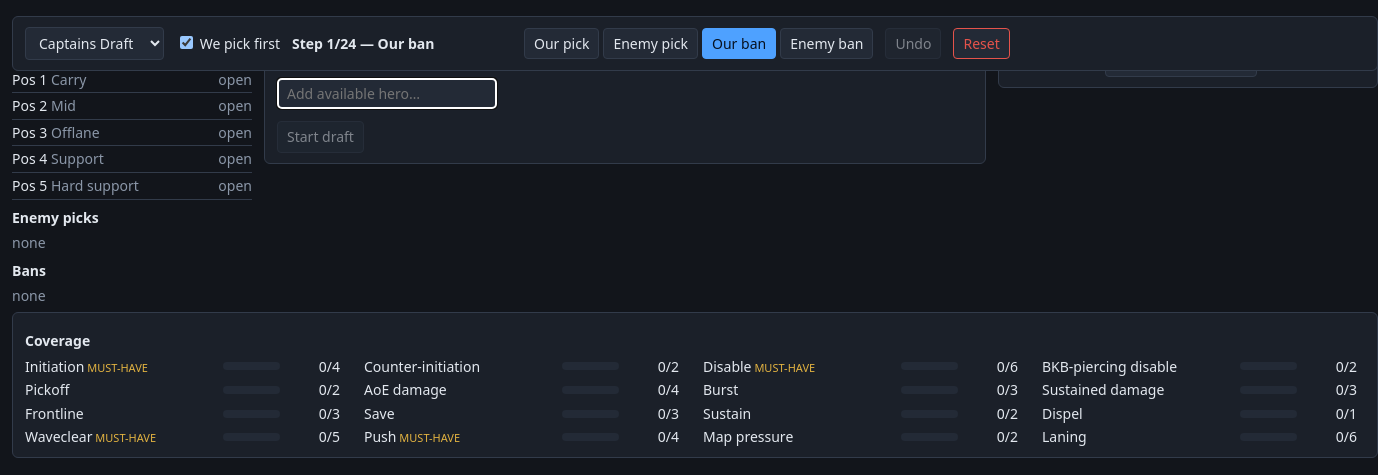
DraftScreen › Start draft is disabled while the available list is empty
Expected: the button "Start draft" is disabled, [277, 121, 364, 153]
In the dropdown labelled "Add available hero…": [387, 93] box [277, 78, 497, 109], type "Axe"
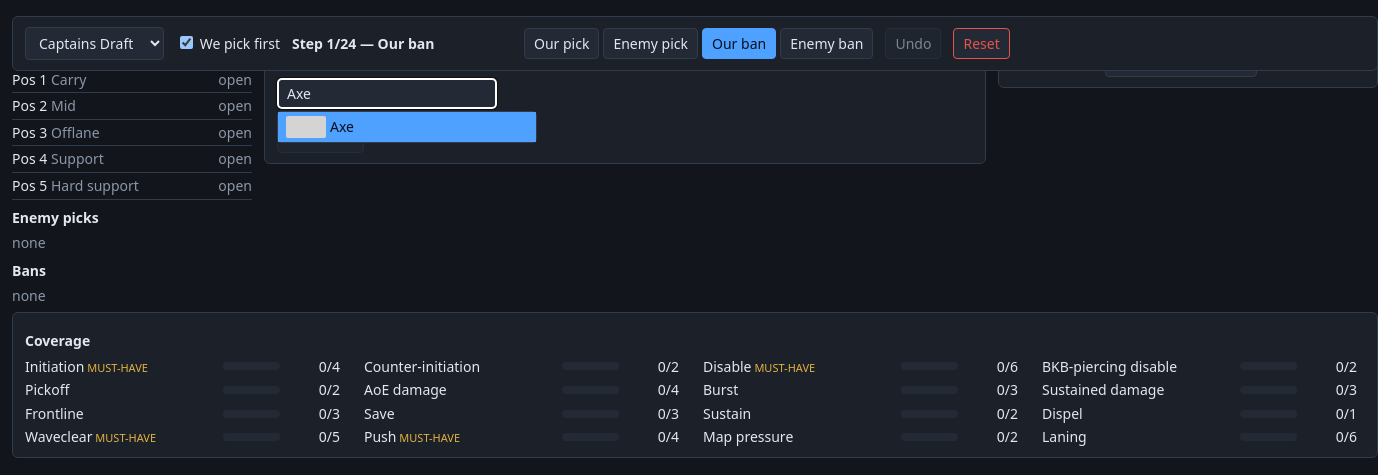
Press Enter in the dropdown named "…", box [277, 78, 497, 109]
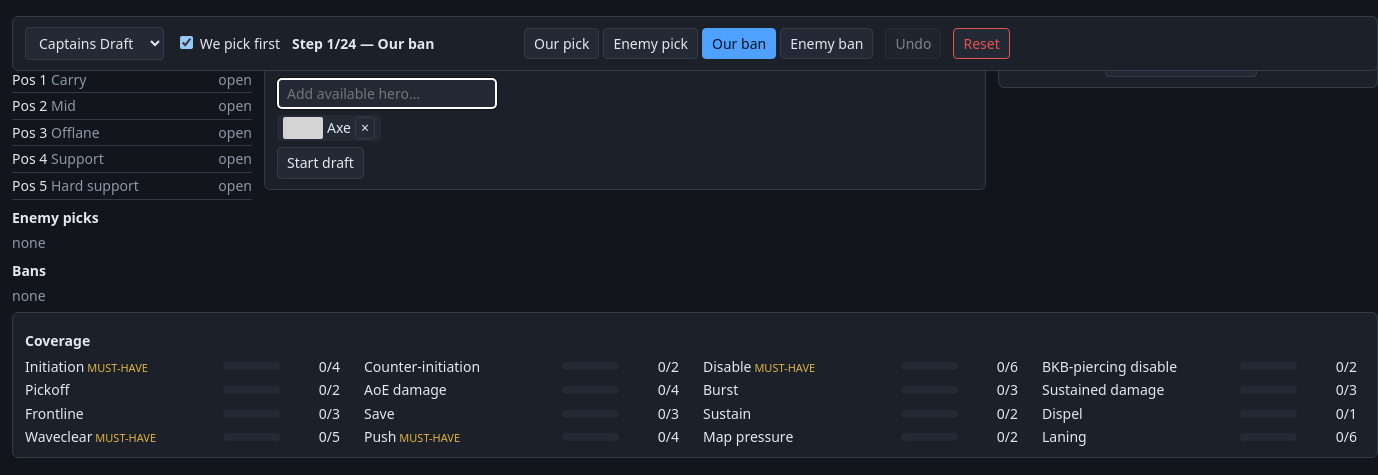
Expected: the button "Start draft" is enabled, [277, 147, 364, 179]
